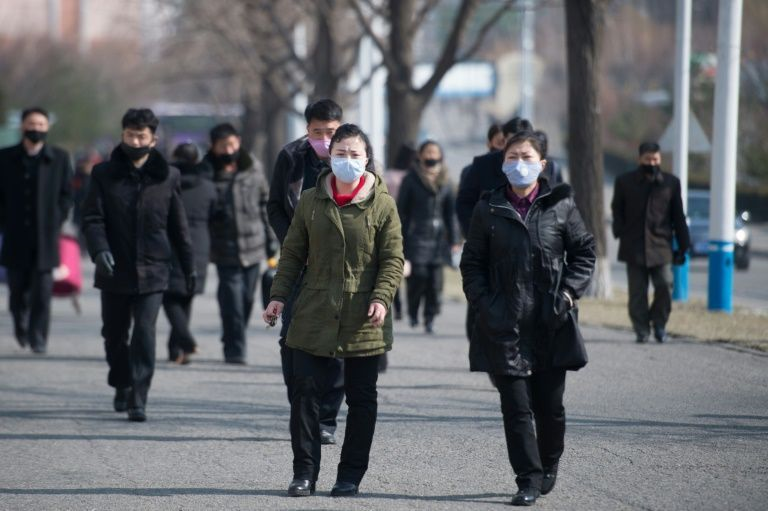mask_weared_incorrect: (118, 118, 152, 161)
with_mask: (499, 139, 543, 190), (330, 134, 372, 181)
